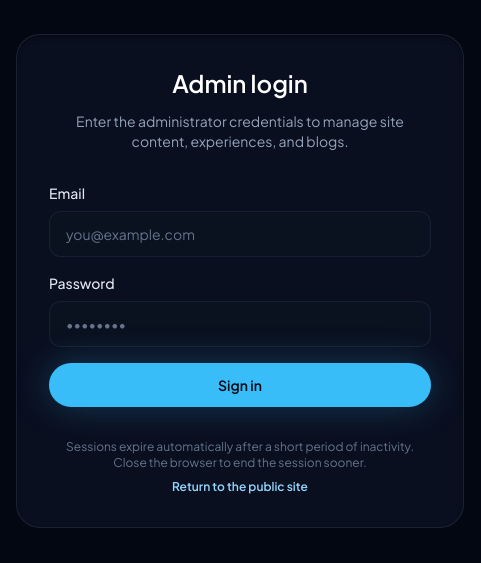
Test case: LoginPage › shows generic error when login fails with non-Error
Type "admin@example.com" into the field labelled "Email" at (240, 234), box [49,211,431,257]
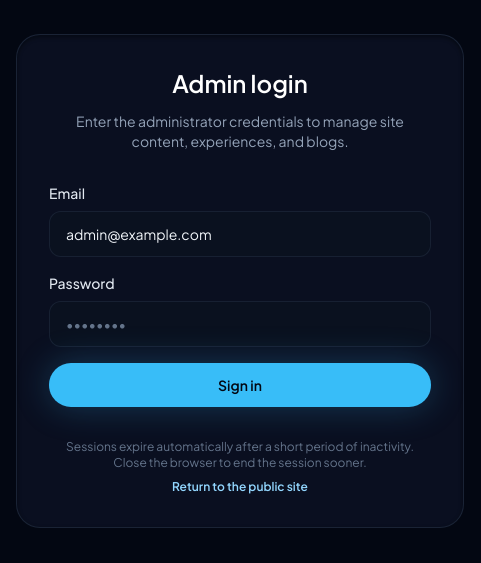
Type "wrong" into the password field labelled "Password" at (240, 324), box [49,301,431,347]
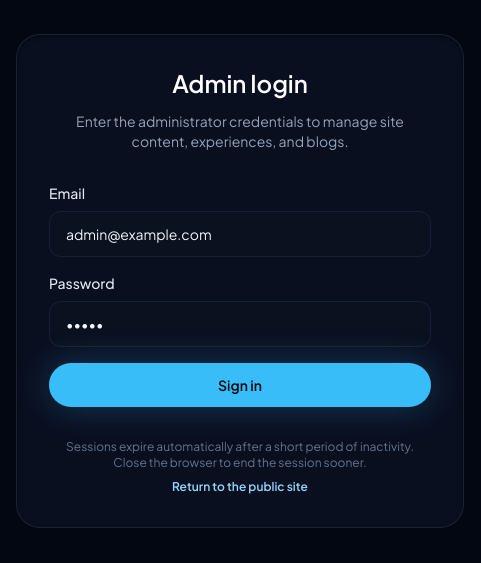
Click the button "Sign in" at (240, 385), box [49,363,431,407]
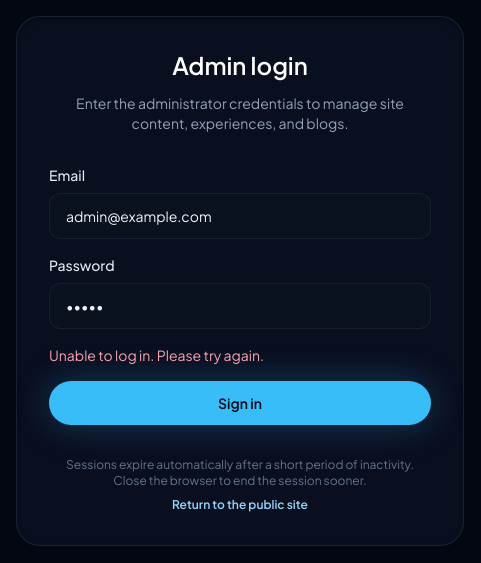
Expected: the text "Unable to log in. Please try again." is shown, [49,346,264,364]
